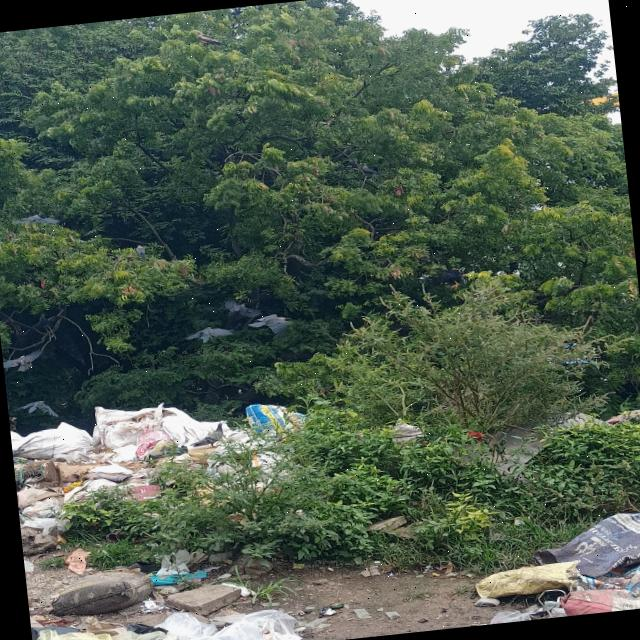garbage: (8, 381, 308, 544), (25, 551, 302, 640), (475, 502, 640, 622)
